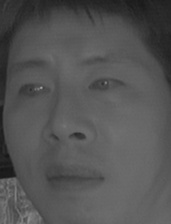eye: (86, 71, 128, 99), (14, 79, 56, 103)
mouth: (44, 158, 106, 197)
